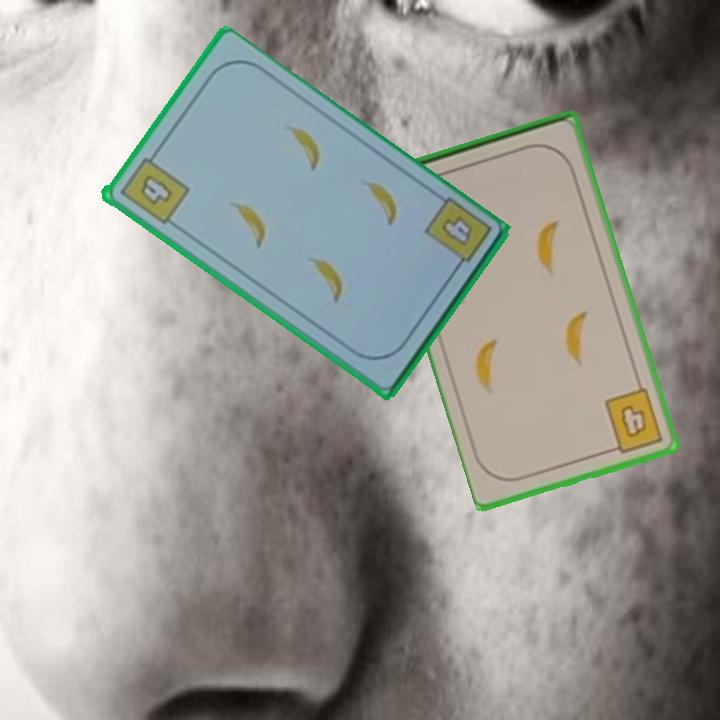4b: (115, 147, 192, 228), (420, 194, 495, 277), (601, 384, 666, 456)
